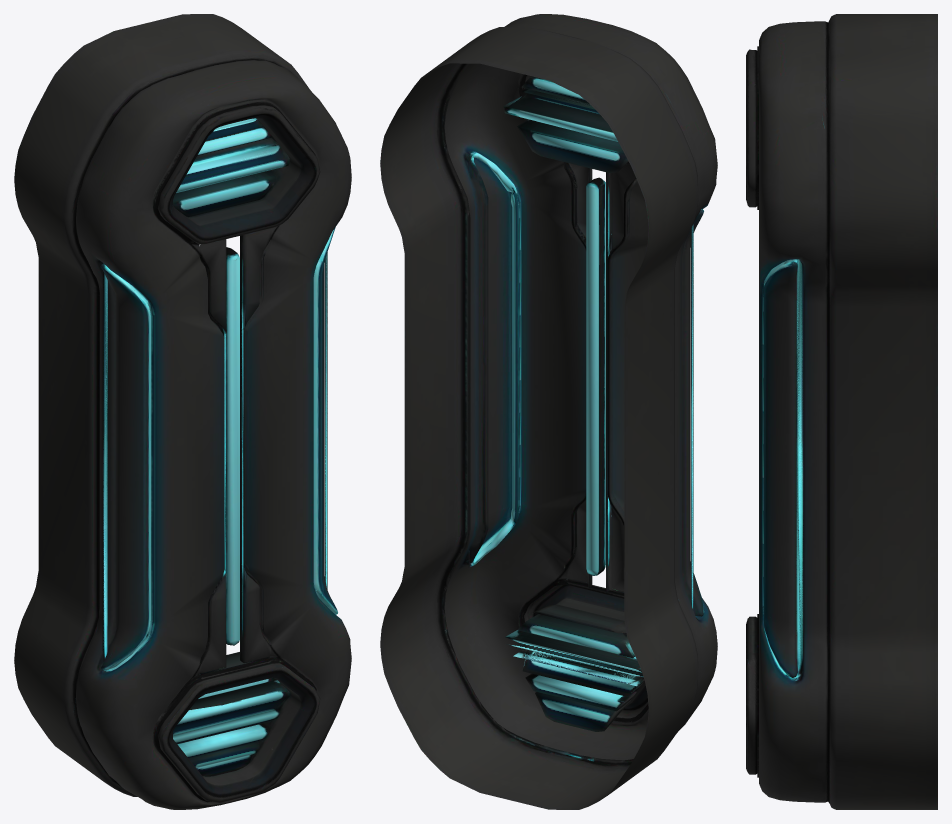
The model's file is 019e89cd-0101-7dd0-a016-7e36e6f15ede.glb.
3 renders of one model, left to right at view 1: azimuth 30°, elevation 25°; view 2: azimuth 150°, elevation 25°; view 3: azimuth 270°, elevation 25°, orthographic. The views are drawn at different scales.
Parts seen in each view (by area): view 1: tripo_node_01e4b40c-83b4-4ec6-a40e-f564b73487cf; view 2: tripo_node_01e4b40c-83b4-4ec6-a40e-f564b73487cf; view 3: tripo_node_01e4b40c-83b4-4ec6-a40e-f564b73487cf.
Part boxes in pixels (bbox=[...]): tripo_node_01e4b40c-83b4-4ec6-a40e-f564b73487cf: bbox=[14, 14, 351, 809]; tripo_node_01e4b40c-83b4-4ec6-a40e-f564b73487cf: bbox=[380, 14, 717, 809]; tripo_node_01e4b40c-83b4-4ec6-a40e-f564b73487cf: bbox=[746, 14, 937, 809].
Size of the model in its own units: 0.3848 by 0.998 by 0.2324.
Materials: 1 (1 with a texture image).
